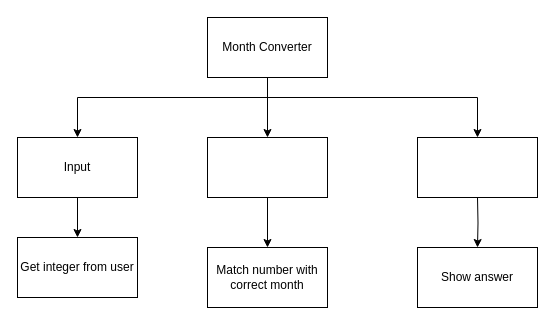
Image size: 555x325. Some labels were removed from this diagram. Here are the shapes that lost their labels. From the top down, the centre of each, then its label:
At point 267,167: "Process".
At point 477,167: "Output".
